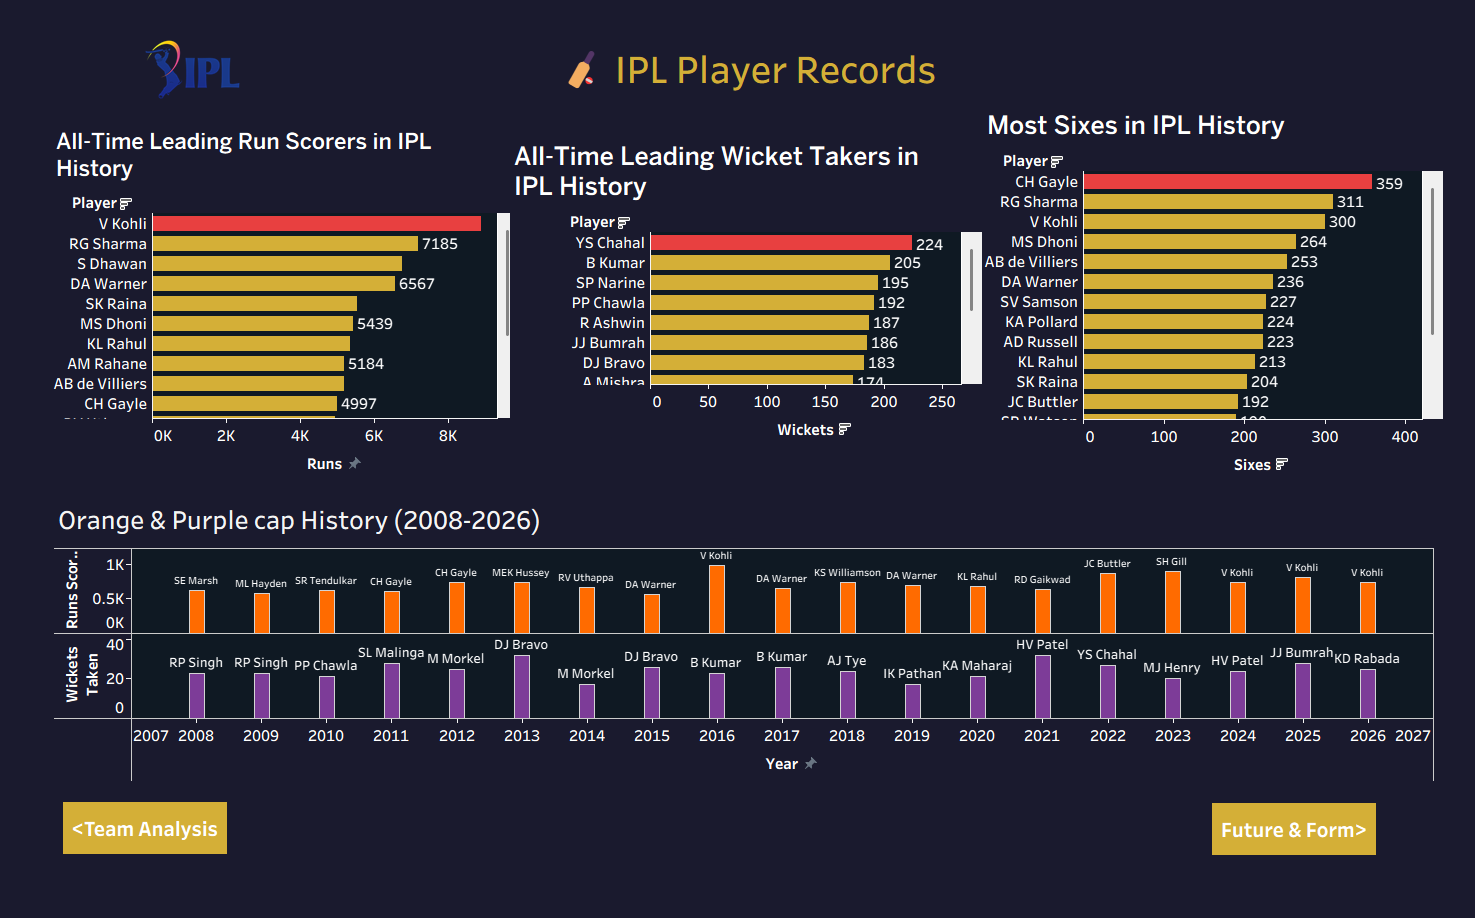

This screenshot's page, from the dashboard's own definition file:
{"tool":"tableau","page":{"name":"Player Records","canvas":[1400,900],"ordinal":1},"visuals":[{"type":"image","param":"Image/ipl-logo.png","box":[110,52,133,96]},{"type":"text","box":[100,64,1223,70]},{"type":"worksheet","title":"Top Run Scorers","mark":"Bar","rows":["Player"],"cols":["Runs"],"box":[18,155,466,357]},{"type":"worksheet","title":"Top Wicket Takers","mark":"Bar","rows":["Player"],"cols":["Wickets"],"box":[476,168,472,310]},{"type":"legend","title":"Top Wicket Takers","param":"[federated.1n3hk0e1qlhd6j1conh6k1z0r4lu].[none:Calculation_1638556265070593:nk]","box":[1029,207,140,64]},{"type":"worksheet","title":"Cap History","mark":"Bar","rows":["Runs","Wickets"],"cols":["Year"],"box":[20,529,1380,284]},{"type":"dashboard-object","box":[29,833,164,52]},{"type":"dashboard-object","box":[1178,834,164,52]}]}

Visuals, with their boxes on the page's 1400x900 design canvas (x1, y1, x2, y2). These are canvas units, not pixel positions in the 1475x918 screenshot, which may show the page scaled, cropped or inside an application window:
image: 110,52,243,148
text: 100,64,1323,134
"Top Run Scorers" worksheet (Bar marks): 18,155,484,512
"Top Wicket Takers" worksheet (Bar marks): 476,168,948,478
"Top Wicket Takers" legend: 1029,207,1169,271
"Cap History" worksheet (Bar marks): 20,529,1400,813
dashboard-object: 29,833,193,885
dashboard-object: 1178,834,1342,886
